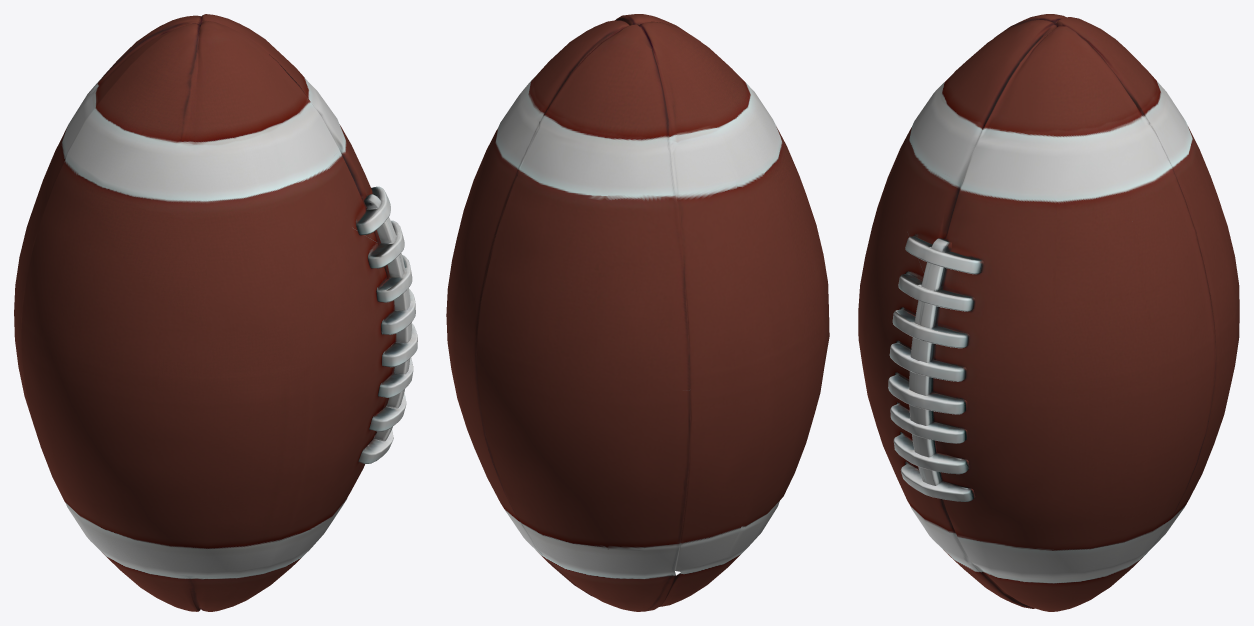
The picture shows the model from 3 angles, left to right: view 1: azimuth 30°, elevation 25°; view 2: azimuth 150°, elevation 25°; view 3: azimuth 270°, elevation 25°; orthographic projection.
Parts seen in each view (by area): view 1: tripo_node_12d1d5a7-a932-4ca1-869b-0008d4327a69; view 2: tripo_node_12d1d5a7-a932-4ca1-869b-0008d4327a69; view 3: tripo_node_12d1d5a7-a932-4ca1-869b-0008d4327a69.
Part boxes in pixels (x1,y1,x2,y2): tripo_node_12d1d5a7-a932-4ca1-869b-0008d4327a69: (14, 14, 417, 611); tripo_node_12d1d5a7-a932-4ca1-869b-0008d4327a69: (446, 14, 829, 611); tripo_node_12d1d5a7-a932-4ca1-869b-0008d4327a69: (858, 14, 1239, 611).
Bounding box in the file's own units: 0.5942 × 0.9995 × 0.5913.
Materials: 1 (1 with a texture image).
